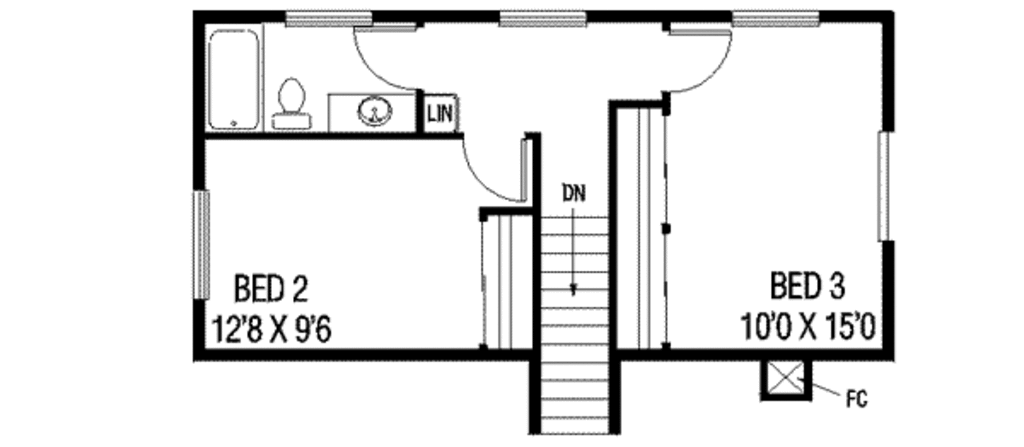door: (346, 27, 429, 89), (459, 131, 529, 204), (662, 27, 738, 91)
large_sink: (269, 73, 313, 131)
small_sink: (330, 88, 419, 134)
stairs: (536, 193, 619, 429)
tub: (207, 22, 261, 128)
window: (501, 3, 596, 28), (878, 131, 900, 238), (194, 192, 210, 303), (731, 9, 819, 26), (286, 13, 375, 28)
